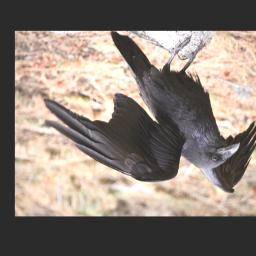Crow: (41, 33, 256, 195)
